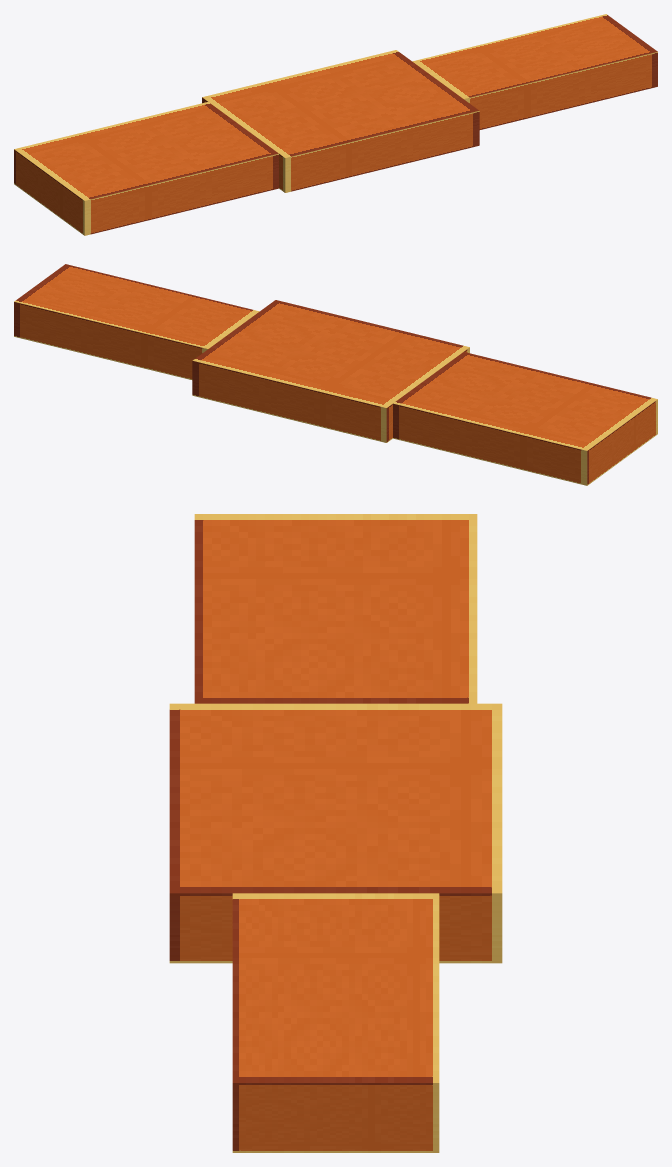
Rendered from bench_guiyan_sword_0_hot.obj.
3 renders of one model, top to bottom at view 1: azimuth 30°, elevation 25°; view 2: azimuth 150°, elevation 25°; view 3: azimuth 270°, elevation 25°, orthographic. The views are drawn at different scales.
Parts seen in each view (by area): view 1: geometry; view 2: geometry; view 3: geometry.
Boxes of the visible parts, x1,y1,x2,y2 form: geometry: [14, 14, 657, 235]; geometry: [14, 264, 657, 485]; geometry: [169, 514, 502, 1152].
Bounding box in the file's own units: 0.75 × 0.043 × 0.1854.
